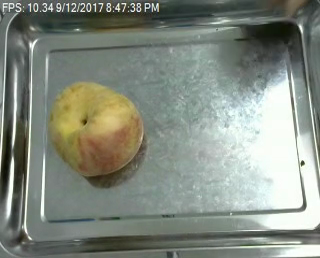Peach: (47, 80, 144, 176)
